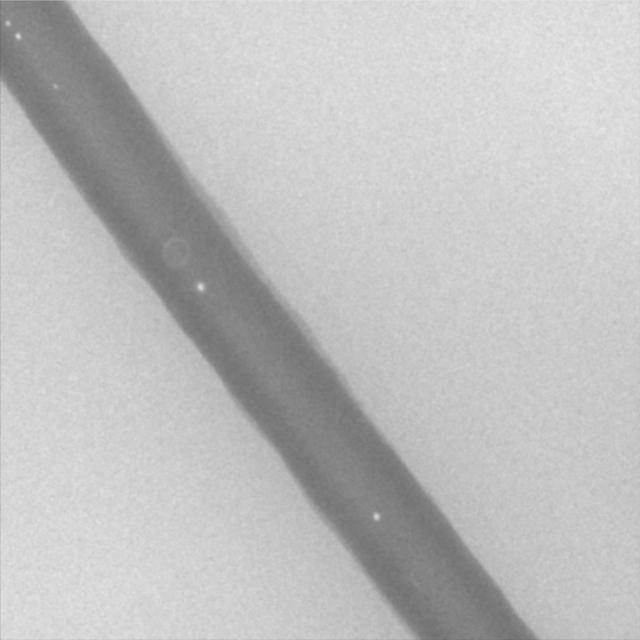air hole: (370, 509, 381, 524), (195, 282, 205, 293), (4, 18, 11, 29), (15, 31, 22, 41), (52, 81, 58, 91)
hollow bead: (160, 236, 193, 271)
